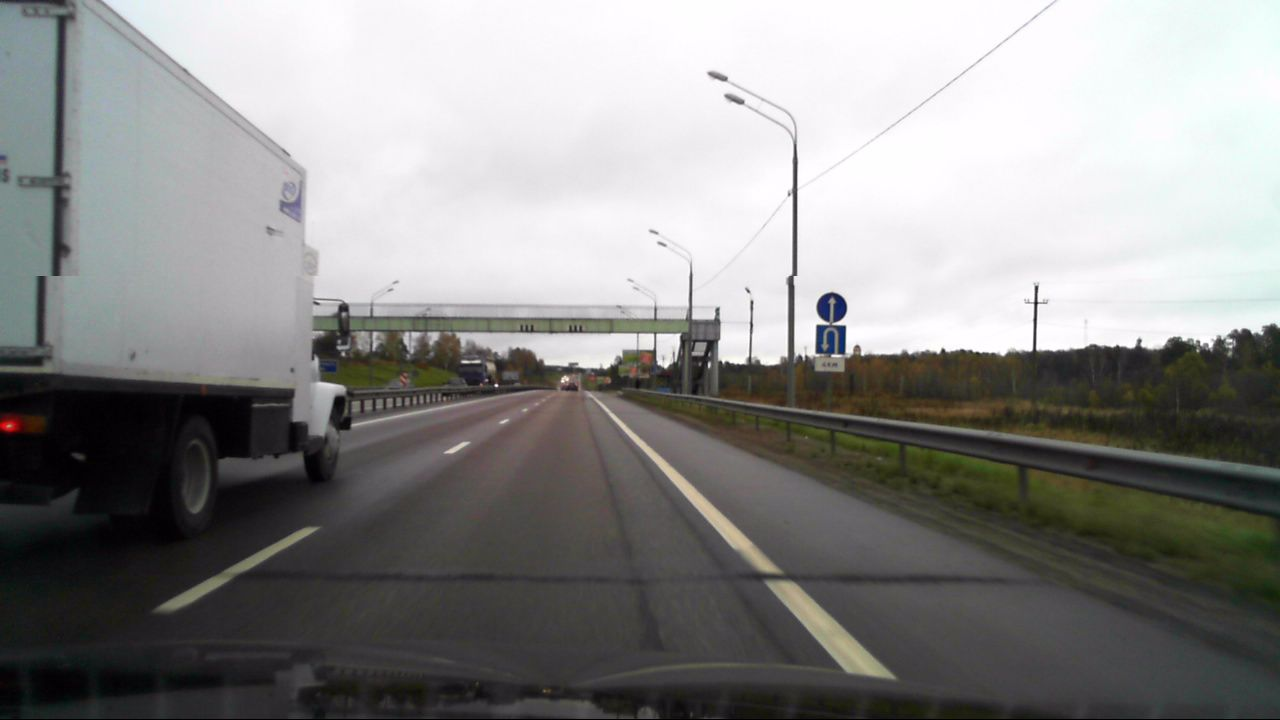U-turn: (816, 325, 845, 355)
